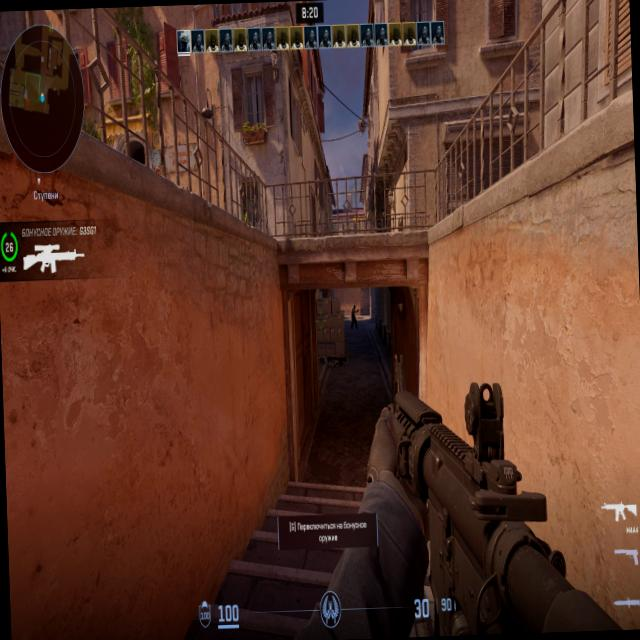T: (352, 306, 357, 326)
T_heat: (353, 306, 354, 308)
